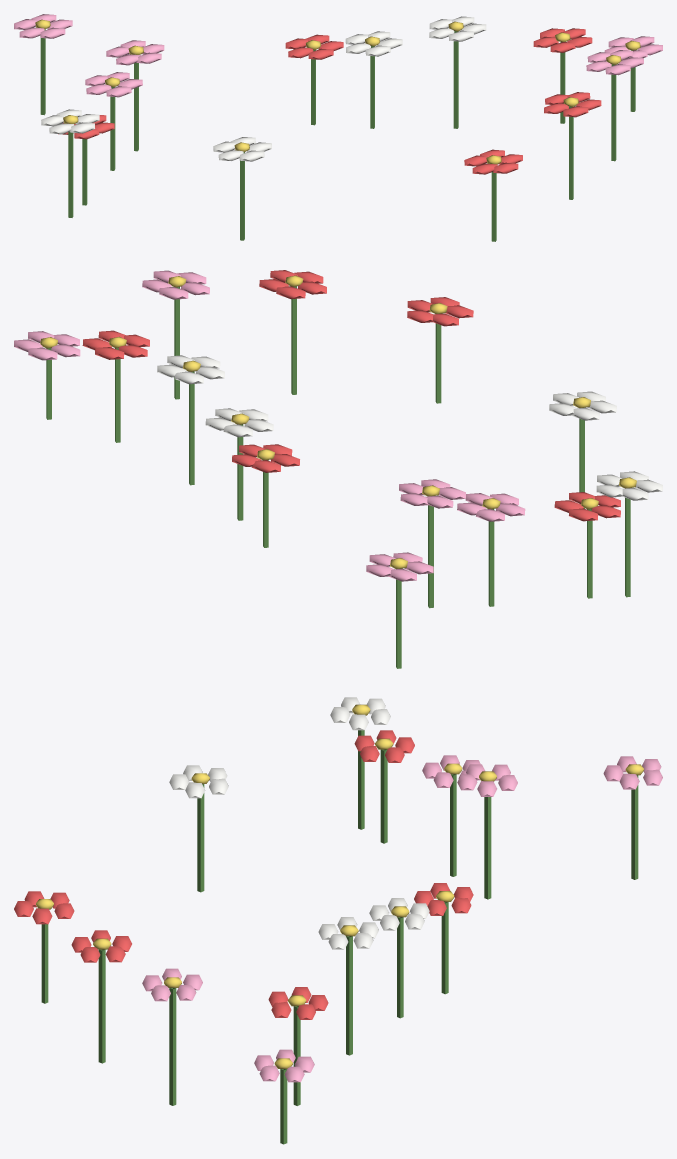
Rendered from flower_patch_b.glb.
3 renders of one model, top to bottom at view 1: azimuth 30°, elevation 25°; view 2: azimuth 150°, elevation 25°; view 3: azimuth 270°, elevation 25°, orthographic. The views are drawn at different scales.
Visible parts, largest first — view 1: flower_patch_b; view 2: flower_patch_b; view 3: flower_patch_b.
Part boxes in pixels (x1=…): flower_patch_b: x1=14, y1=14, x2=662, y2=241; flower_patch_b: x1=14, y1=270, x2=662, y2=668; flower_patch_b: x1=14, y1=697, x2=662, y2=1144.
Bounding box in the file's own units: 1.7 × 0.2937 × 1.35.
